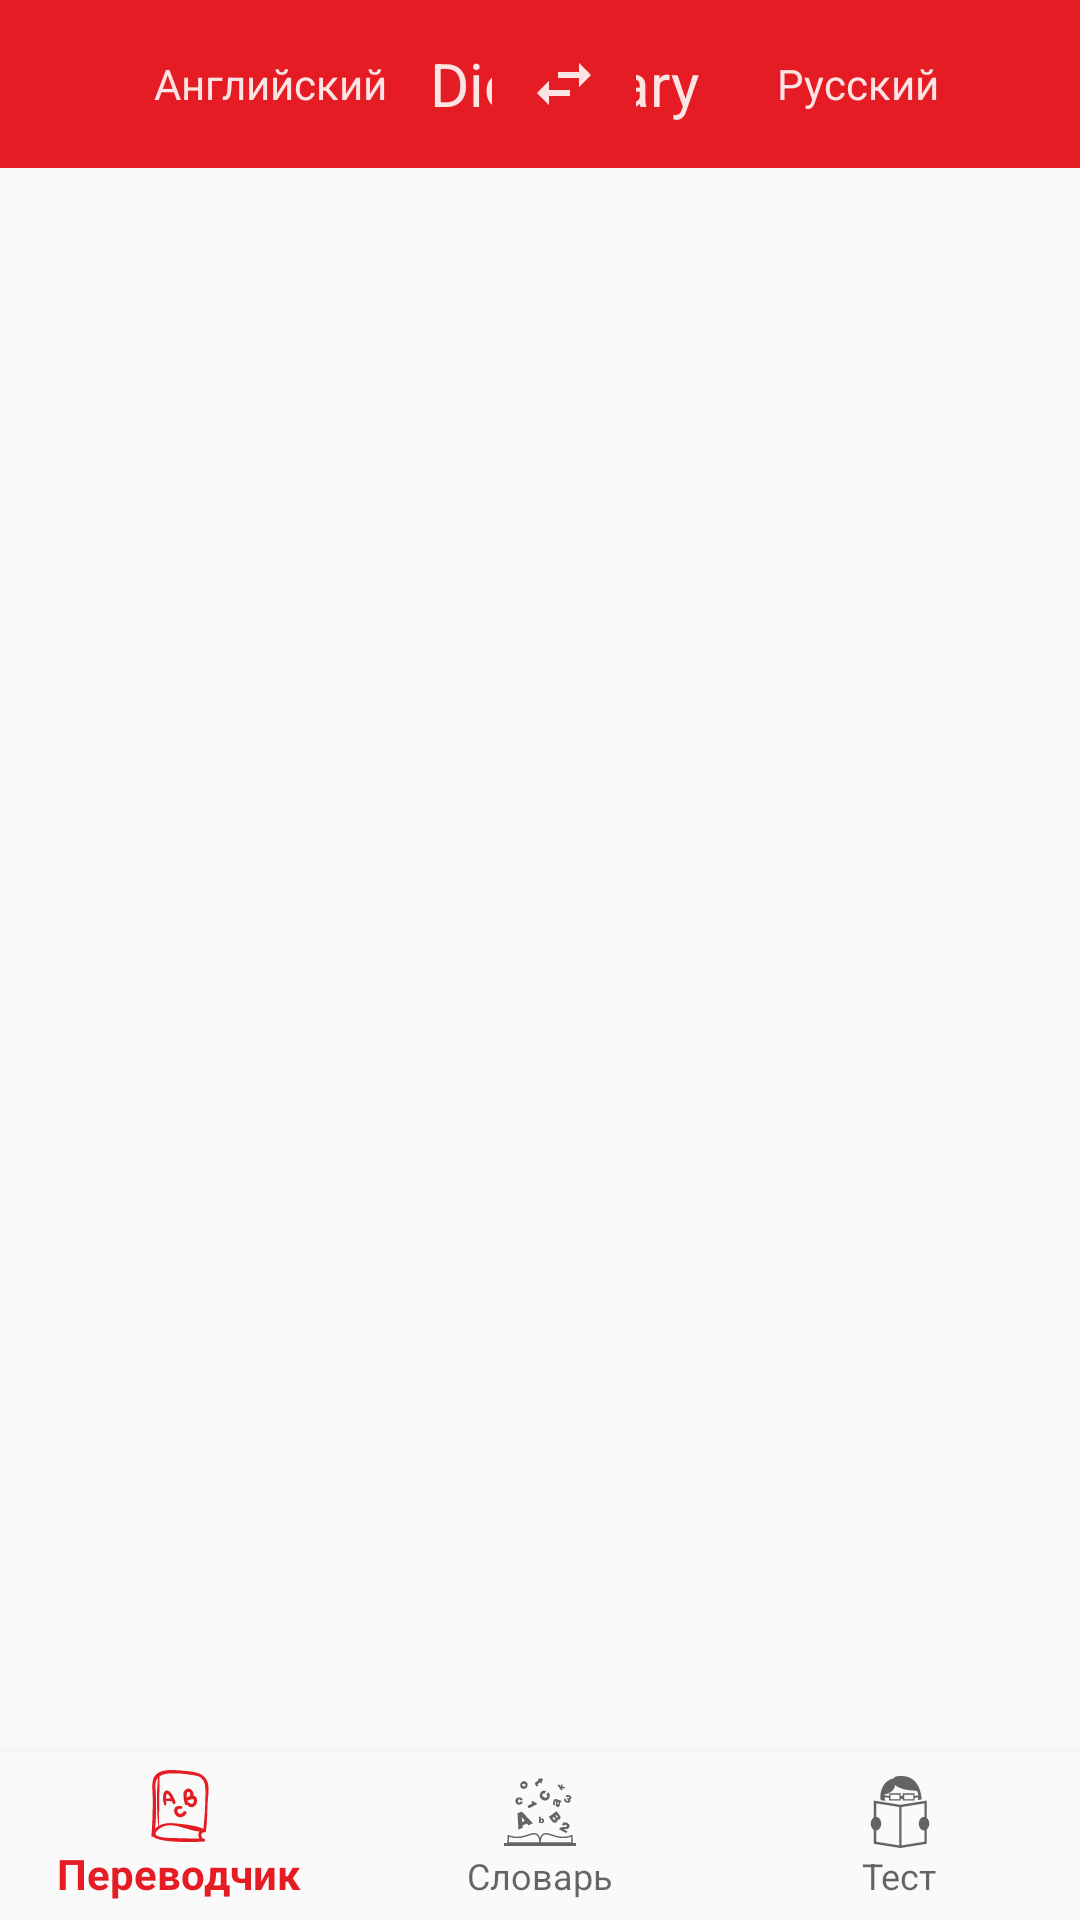

Screen size 1080 x 1920. Icon name, then its center in pixels as [x,y]:
swap: [564,84]
